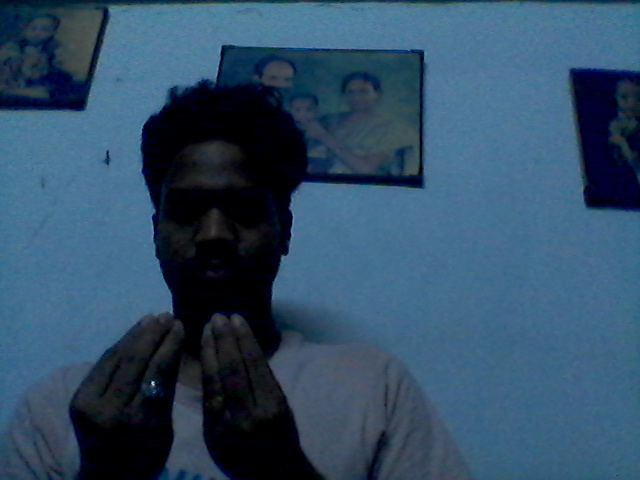Sorry: (59, 305, 306, 480)
